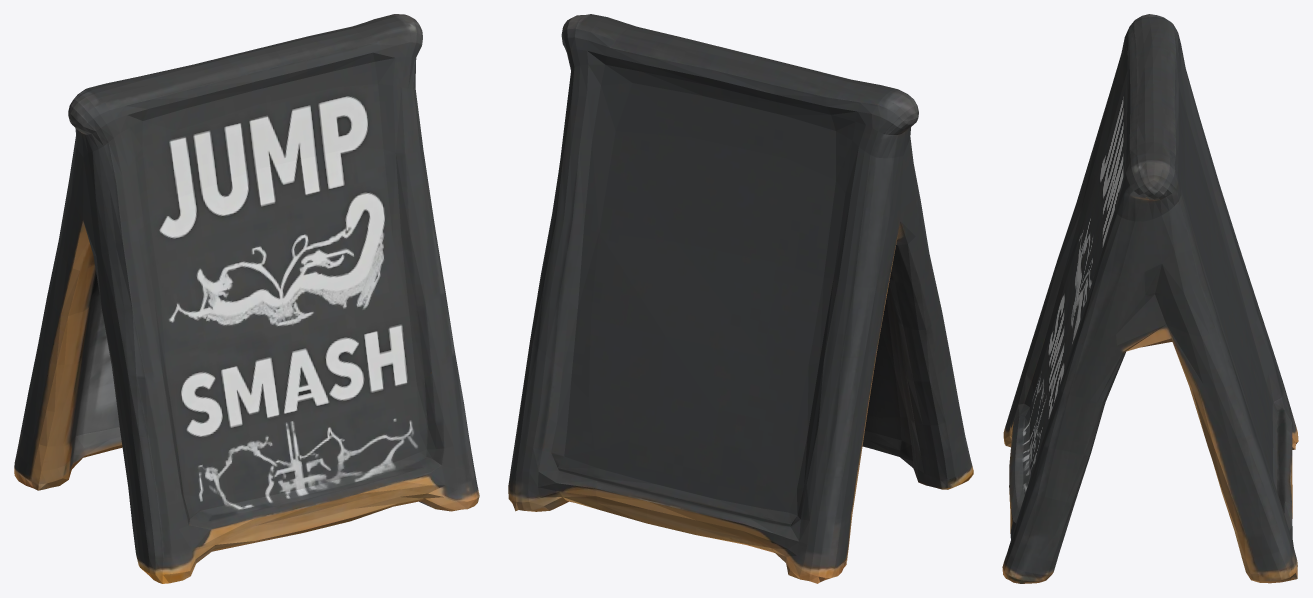
File: signboard.glb
3 renders of one model, left to right at view 1: azimuth 30°, elevation 25°; view 2: azimuth 150°, elevation 25°; view 3: azimuth 270°, elevation 25°, orthographic. The views are drawn at different scales.
Size of the model in its own units: 1.68 by 2.01 by 1.28.
1 material, 1 textured.
